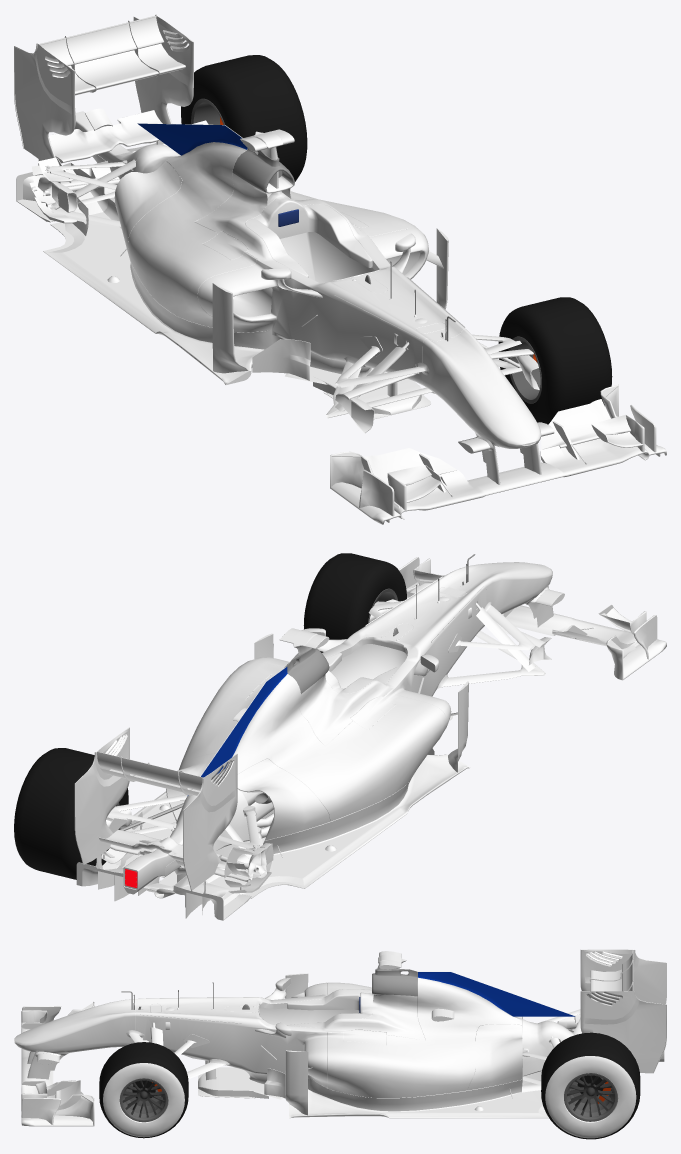
File: car.glb
3 renders of one model, top to bottom at view 1: azimuth 30°, elevation 25°; view 2: azimuth 150°, elevation 25°; view 3: azimuth 270°, elevation 25°, orthographic. The views are drawn at different scales.
Visible parts, largest first — view 1: Car; view 2: Car; view 3: Car.
Part boxes in pixels (x1,y1,x2,y2): Car: [14, 14, 666, 524]; Car: [14, 553, 666, 920]; Car: [14, 949, 666, 1139].
Size of the model in its own units: 1.82 by 1.09 by 4.85.
Materials: 2 (2 with a texture image).
